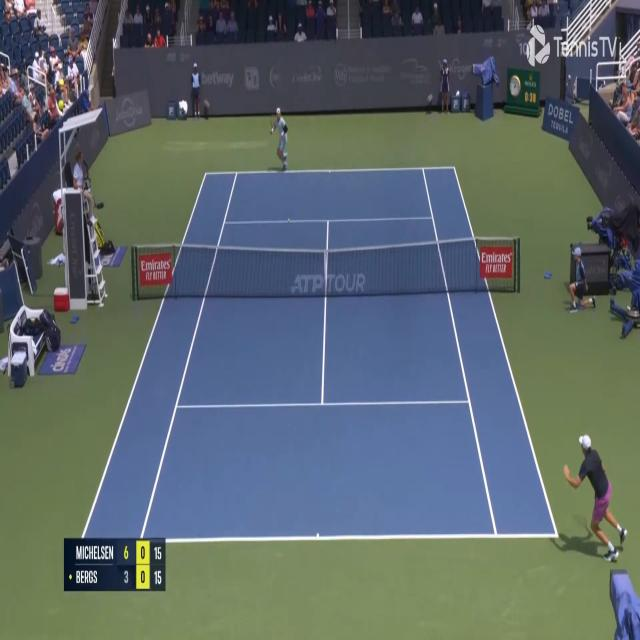tennis-player: (559, 429, 630, 562), (268, 106, 289, 171)
